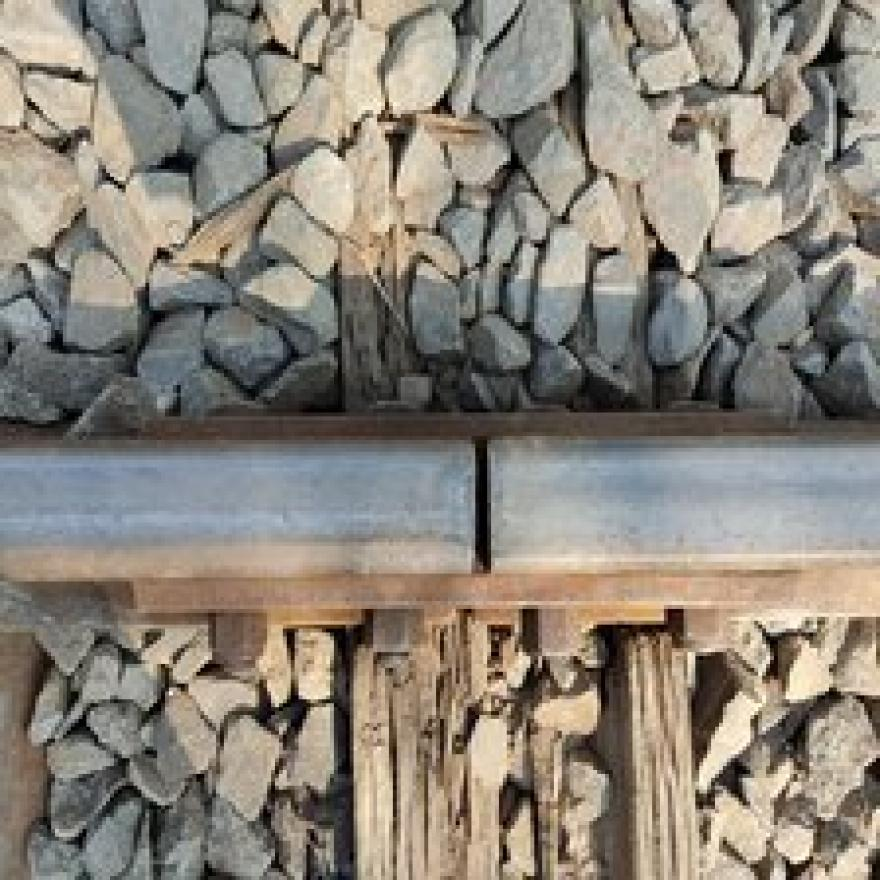railway-gap: (378, 391, 584, 609)
